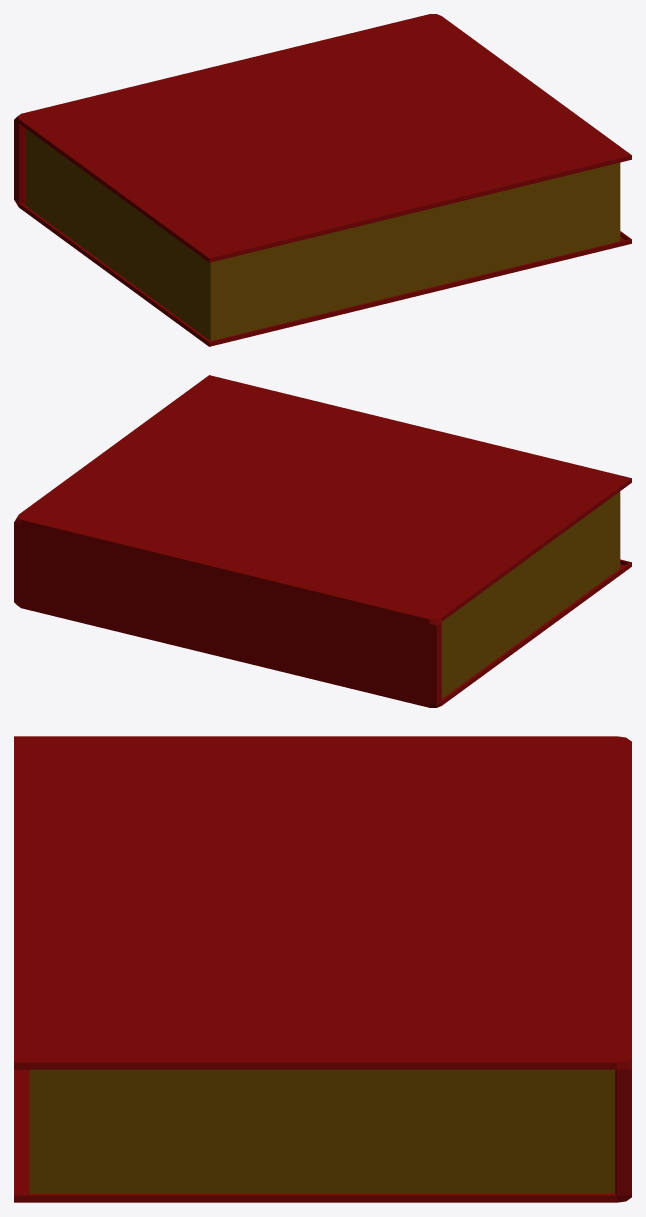
The model's file is _ook2.fbx.
3 views of the same model, one above another, from view 1: azimuth 30°, elevation 25°; view 2: azimuth 150°, elevation 25°; view 3: azimuth 270°, elevation 25° (orthographic). The views are drawn at different scales.
Parts seen in each view (by area): view 1: Cube; view 2: Cube; view 3: Cube.
Part boxes in pixels (bbox=[...]): Cube: bbox=[14, 14, 631, 346]; Cube: bbox=[14, 375, 631, 707]; Cube: bbox=[14, 736, 631, 1202].
Bounding box in the file's own units: 200 × 40 × 160.
